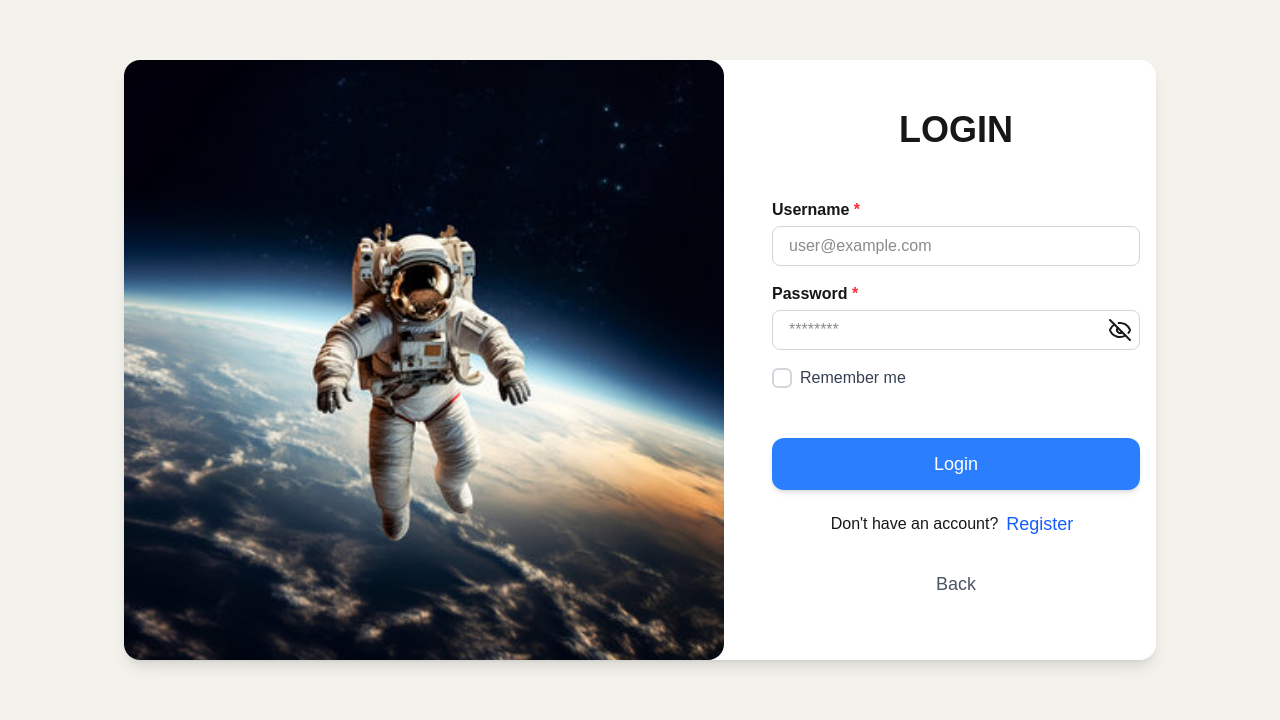
Test: Login Form - E2E Testing › 2. Validation - Empty Fields › 2.3. Should show error when both fields are empty
Click the button "Login" at (956, 464), box [772,438,1140,490]
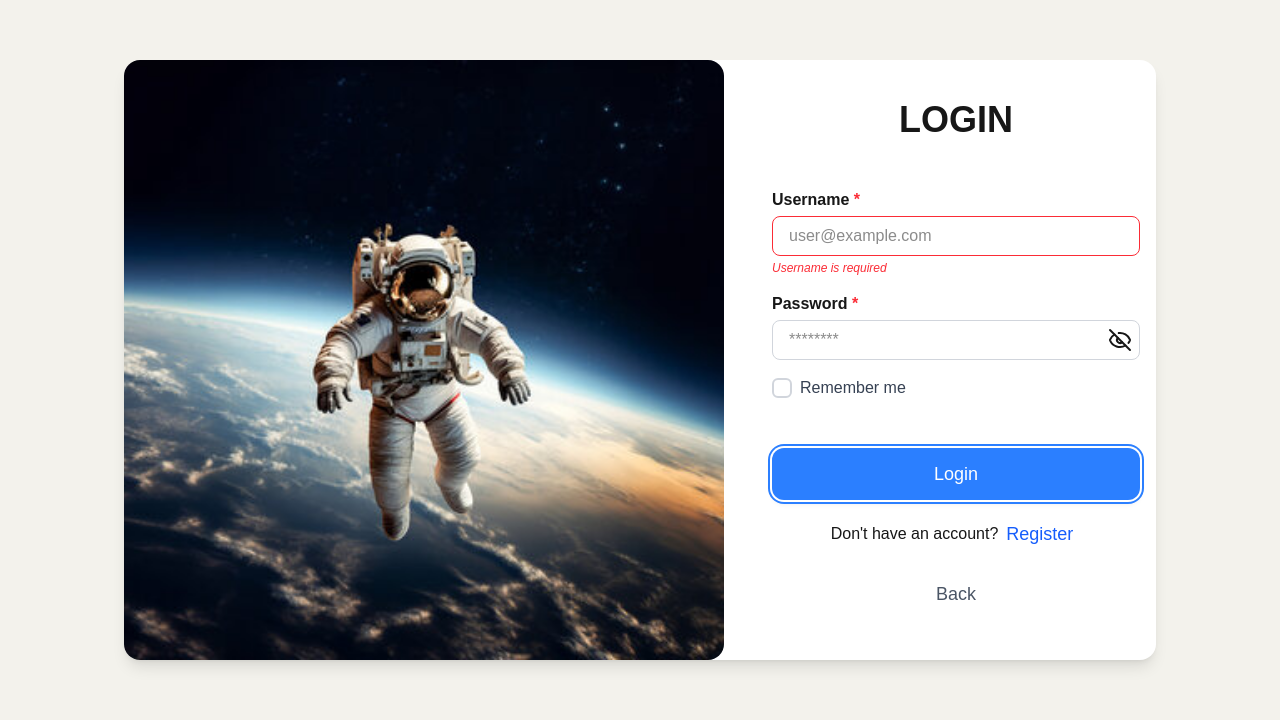
Expected: the text "Username is required" is shown, [772,261,887,275]
